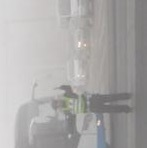person: (49, 84, 134, 116)
